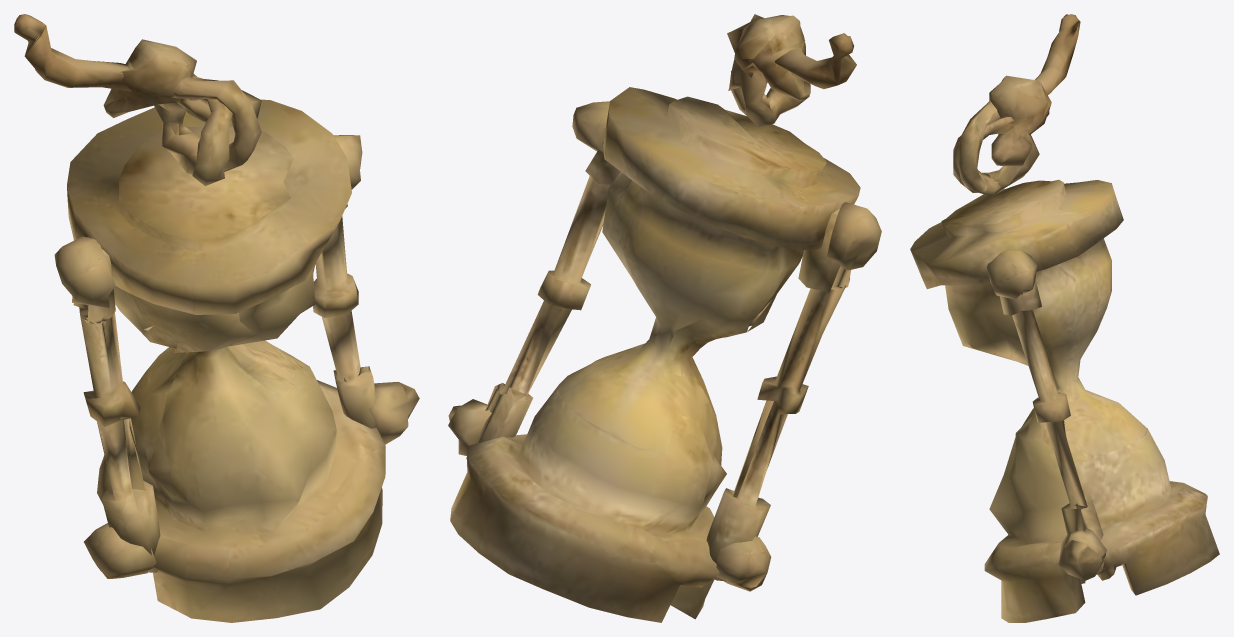
Rendered from acc_hourglass_charm.glb.
3 renders of one model, left to right at view 1: azimuth 30°, elevation 25°; view 2: azimuth 150°, elevation 25°; view 3: azimuth 270°, elevation 25°, orthographic. The views are drawn at different scales.
Bounding box in the file's own units: 0.0776 × 0.1152 × 0.063.
Materials: 1 (1 with a texture image).
